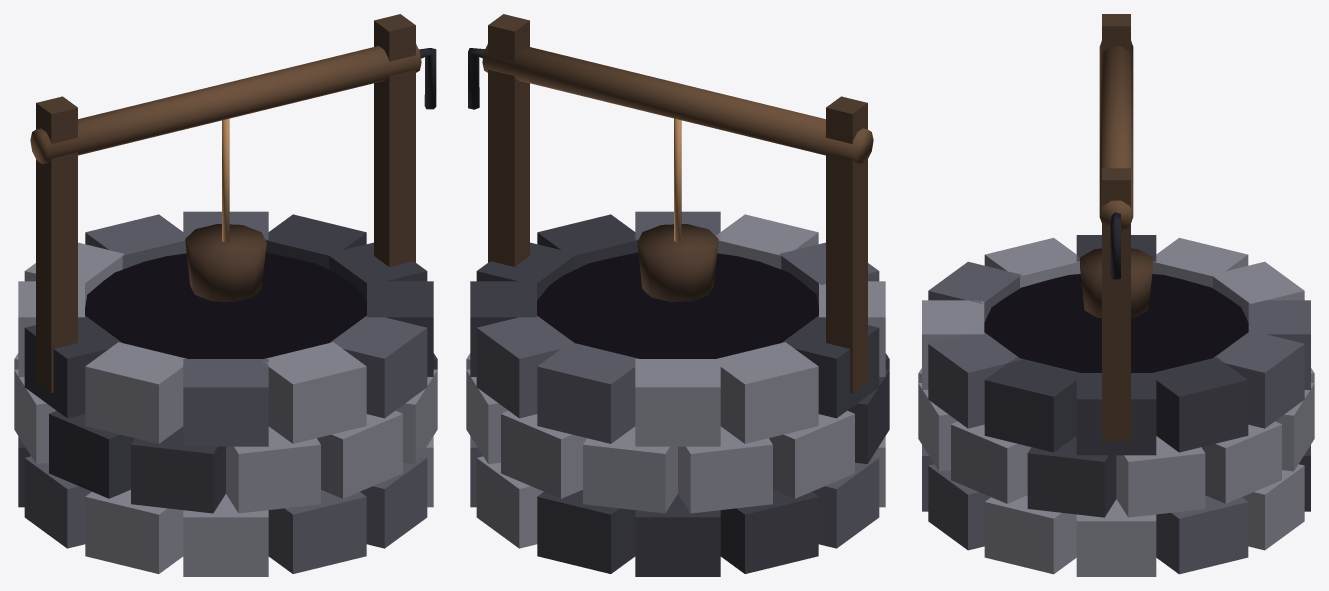
File: well_stone.glb
3 renders of one model, left to right at view 1: azimuth 30°, elevation 25°; view 2: azimuth 150°, elevation 25°; view 3: azimuth 270°, elevation 25°, orthographic. The views are drawn at different scales.
Parts seen in each view (by area): view 1: well_stone; view 2: well_stone; view 3: well_stone.
Boxes of the visible parts, <box> form: well_stone: <box>14,14,437,576</box>; well_stone: <box>466,14,889,576</box>; well_stone: <box>918,14,1314,576</box>.
Size of the model in its own units: 0.8914 by 0.914 by 0.8254.
